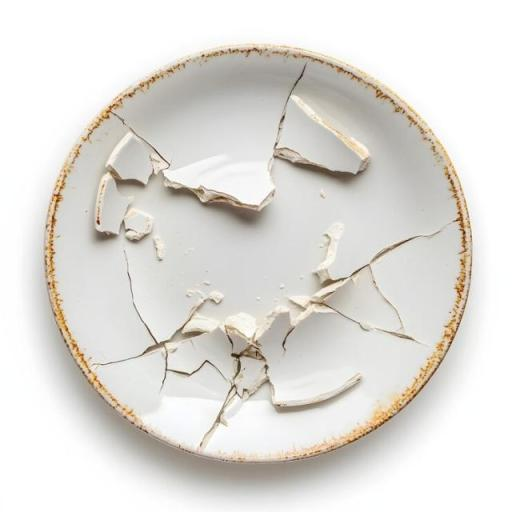glass: (20, 36, 490, 486), (277, 95, 372, 173), (160, 153, 276, 211), (104, 131, 158, 185), (94, 174, 128, 235), (123, 208, 154, 240), (182, 313, 220, 337)
